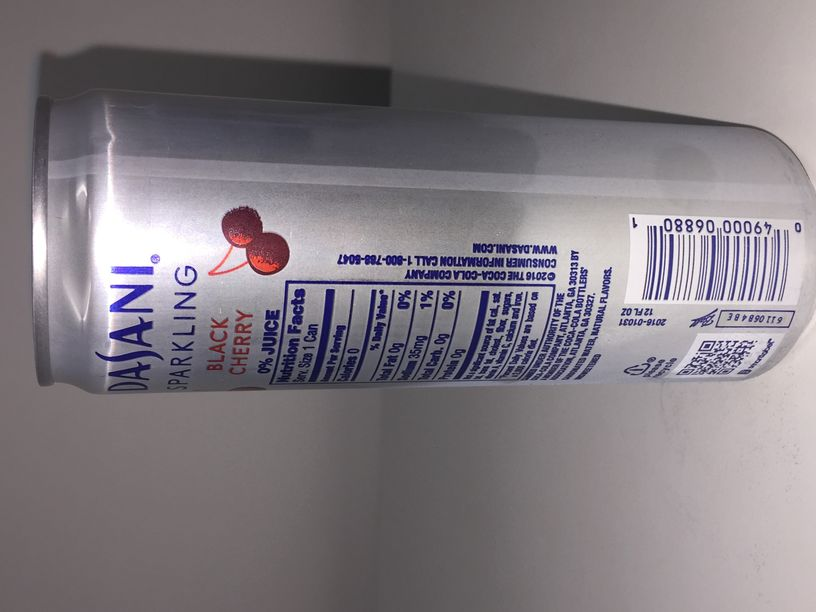blackcherry: (29, 86, 816, 398)
